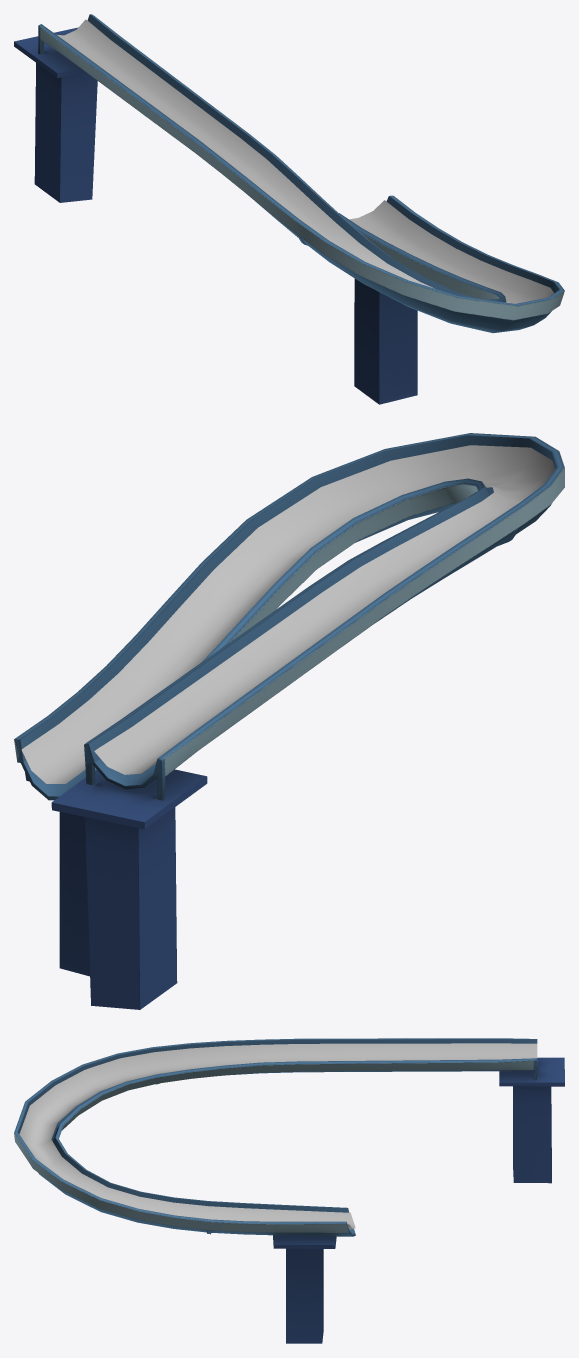
Rendered from slide2.fbx.
The picture shows the model from 3 angles, top to bottom: view 1: azimuth 30°, elevation 25°; view 2: azimuth 150°, elevation 25°; view 3: azimuth 270°, elevation 25°; orthographic projection. The views are drawn at different scales.
Visible parts, largest first — view 1: slide, water; view 2: slide, water; view 3: slide, water.
Boxes of the visible parts, x1=… form: slide: x1=14, y1=14, x2=564, y2=404; water: x1=56, y1=19, x2=553, y2=303; slide: x1=14, y1=433, x2=564, y2=1009; water: x1=21, y1=445, x2=554, y2=783; slide: x1=14, y1=1038, x2=564, y2=1343; water: x1=19, y1=1043, x2=537, y2=1228.
Size of the model in its own units: 11.02 by 13.07 by 28.74.
